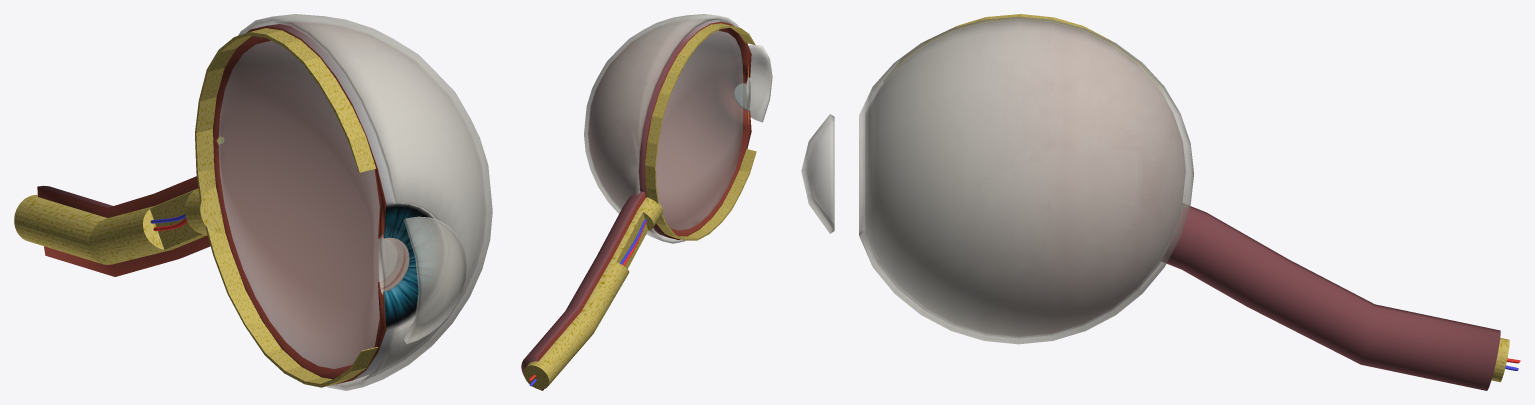
Rendered from oeil_splited.glb.
3 renders of one model, left to right at view 1: azimuth 30°, elevation 25°; view 2: azimuth 150°, elevation 25°; view 3: azimuth 270°, elevation 25°, orthographic. The views are drawn at different scales.
Visible parts, largest first — view 1: Sphere.001, Sphere.008, Sphere.005, Cylinder, Sphere.006, Sphere.003, Sphere; view 2: Sphere.001, Sphere.008, Sphere.005, Cylinder, Sphere.003, Sphere.006, Sphere; view 3: Sphere.005, Sphere.001, Sphere.003, Sphere.006, Cylinder.
Part boxes in pixels (box(x1,y1,x2,y2)): Sphere.001: box(213, 22, 483, 384); Sphere.008: box(218, 41, 379, 368); Sphere.005: box(238, 14, 492, 390); Cylinder: box(14, 28, 378, 387); Sphere.006: box(404, 216, 466, 344); Sphere.003: box(37, 176, 210, 276); Sphere: box(378, 234, 409, 294); Sphere.001: box(588, 19, 751, 239); Sphere.008: box(656, 30, 743, 230); Sphere.005: box(584, 14, 739, 243); Cylinder: box(523, 23, 756, 389); Sphere.003: box(521, 191, 645, 390); Sphere.006: box(744, 45, 772, 122); Sphere: box(734, 77, 750, 113); Sphere.005: box(859, 16, 1193, 344); Sphere.001: box(865, 20, 1185, 336); Sphere.003: box(1160, 204, 1500, 390); Sphere.006: box(801, 114, 834, 233); Cylinder: box(884, 14, 1509, 382).
Size of the model in its own units: 1.16 by 2.48 by 4.32.
9 materials, 4 textured.
